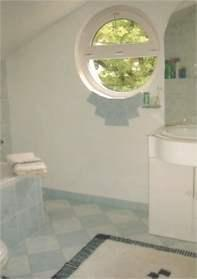Lavamanos: (143, 110, 196, 169)
